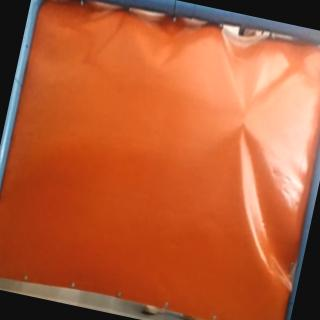Hit-hRxx: (234, 111, 254, 133)
